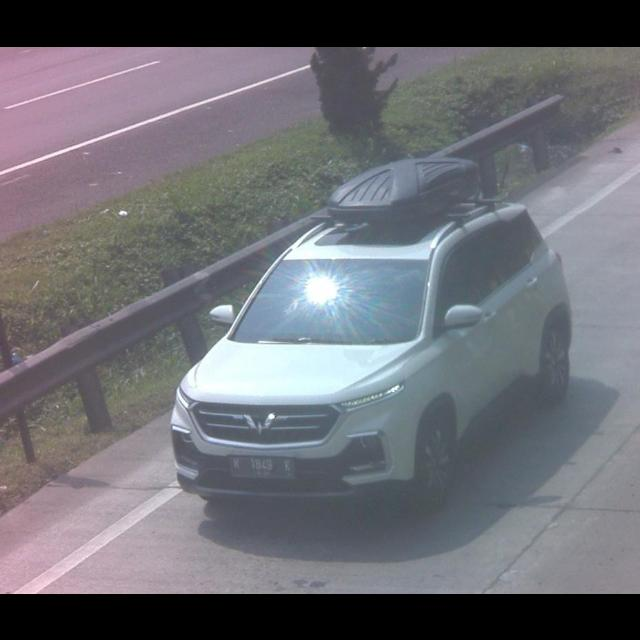plate: (228, 455, 294, 479)
